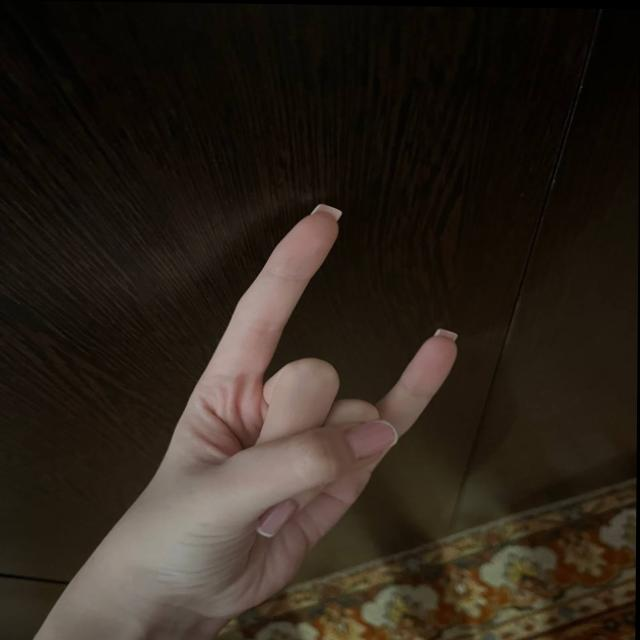y: (112, 191, 483, 588)
